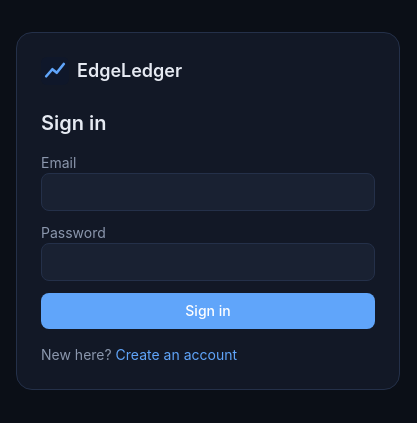
Test: form validation › login surfaces the server's error message
Type "a@b.co" into the field labelled "Email".
click(208, 192); type("a@b.co")  # box [41,173,375,211]
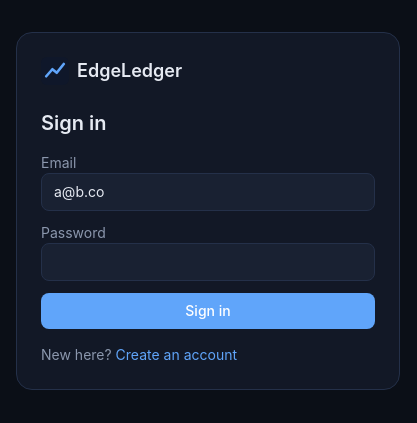
Type "wrong" into the password field labelled "Password".
click(208, 262); type("wrong")  # box [41,243,375,281]
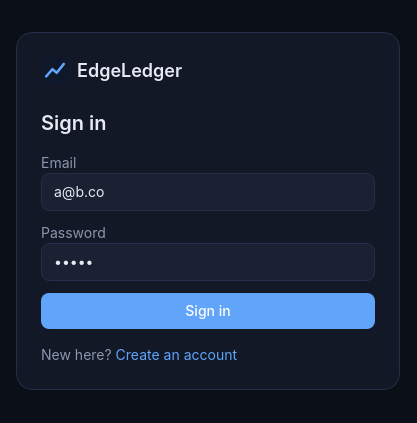
Click the button "Sign in".
click(208, 311)  # box [41,293,375,329]
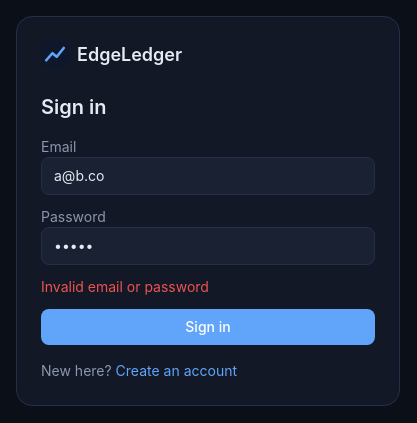
expect the message reads "Invalid email or password": met, box [41,278,209,295]
